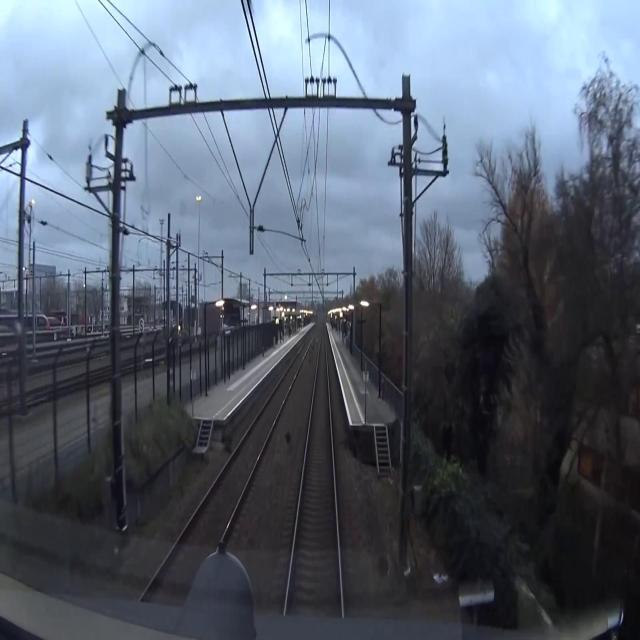rail-track: (118, 337, 311, 639), (284, 332, 341, 639)
